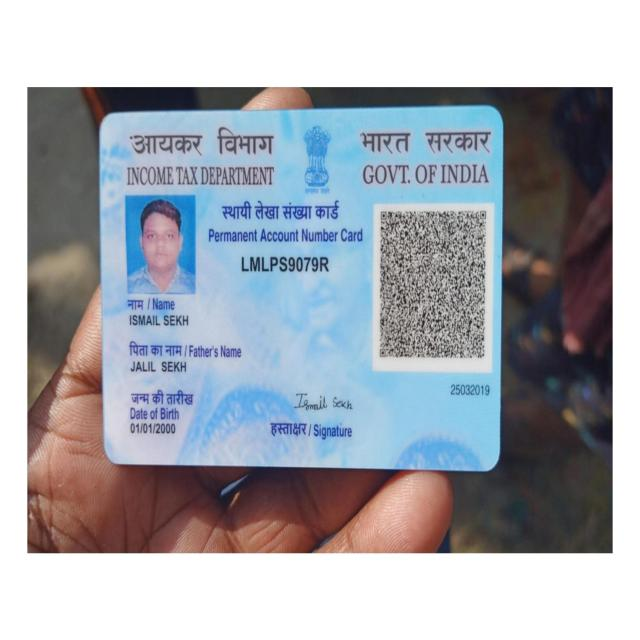pan_card: (103, 113, 499, 469)
